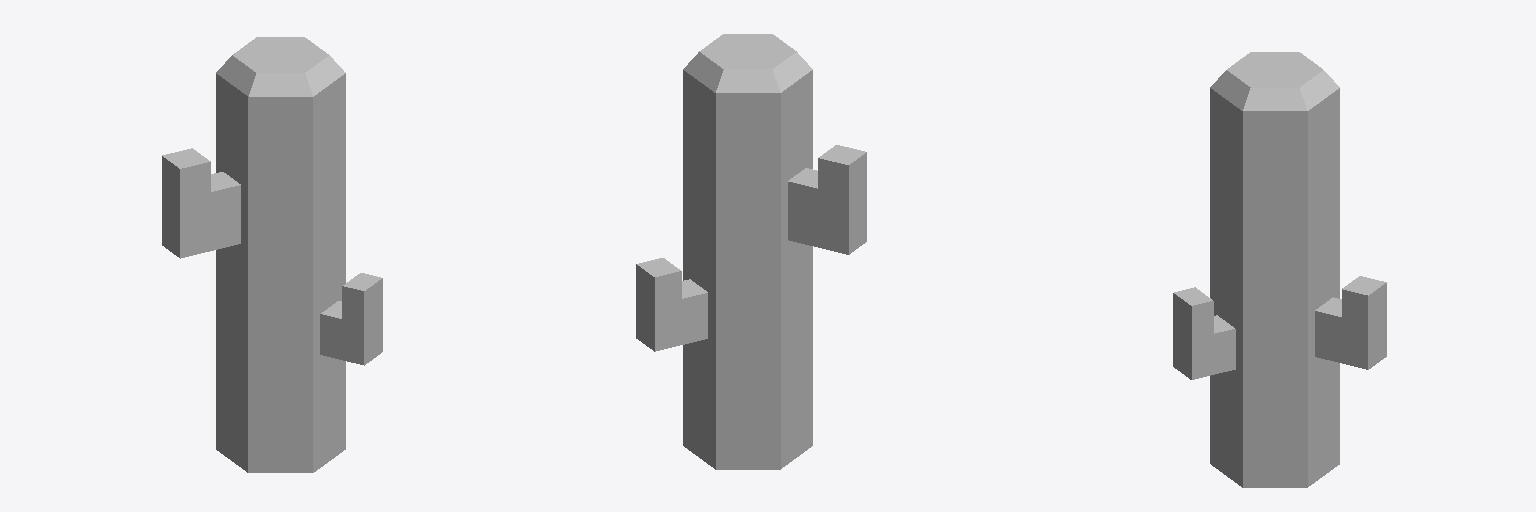
File: cactus_short.obj
3 renders of one model, left to right at view 1: azimuth 30°, elevation 25°; view 2: azimuth 150°, elevation 25°; view 3: azimuth 270°, elevation 25°, orthographic.
Parts seen in each view (by area): view 1: cactus_short; view 2: cactus_short; view 3: cactus_short.
Part boxes in pixels (x1,y1,x2,y2): cactus_short: (162, 37, 382, 472); cactus_short: (636, 34, 866, 469); cactus_short: (1173, 52, 1386, 487).
Size of the model in its own units: 2.22 by 4.77 by 2.34.